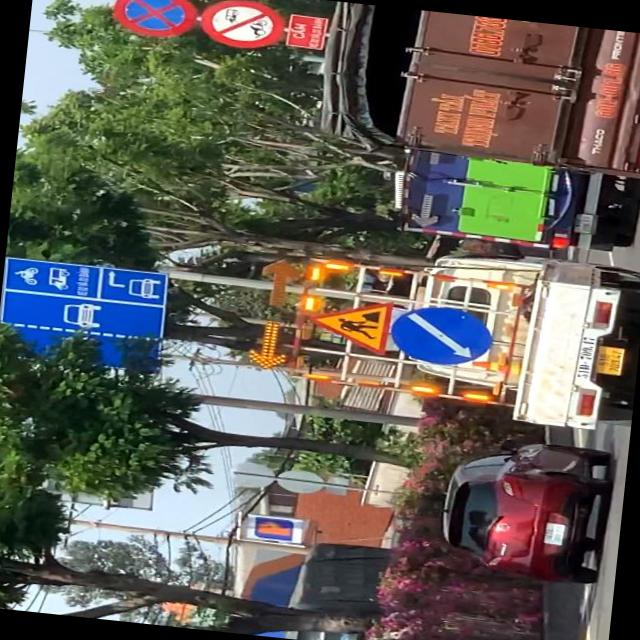P-130: (111, 0, 198, 37)
R-302b: (386, 300, 494, 368)
